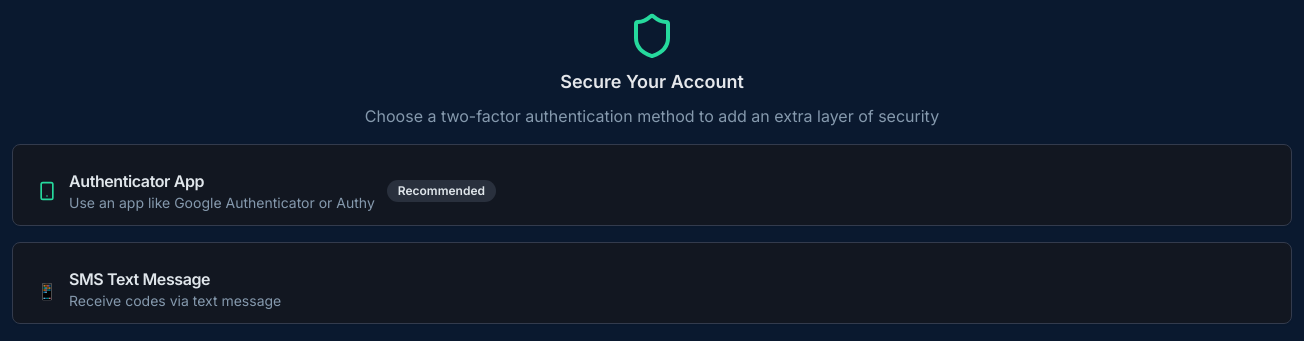
TwoFactorSetup › SMS Setup Flow › should create phone number and proceed to verification
Click the text "SMS Text Message". click: [140, 279]
box: [69,269,210,289]
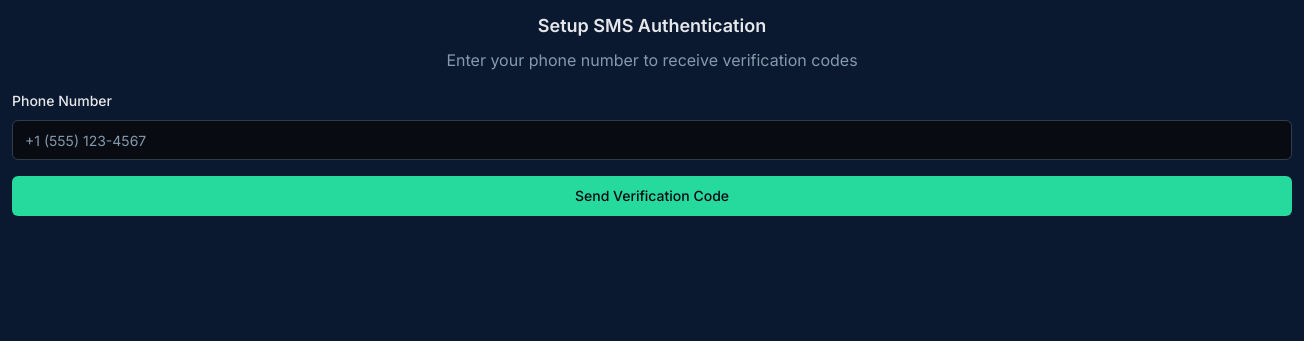
Type "+1234567890" into the field labelled "Phone Number". click: [652, 140]
box: [12,120,1292,160]
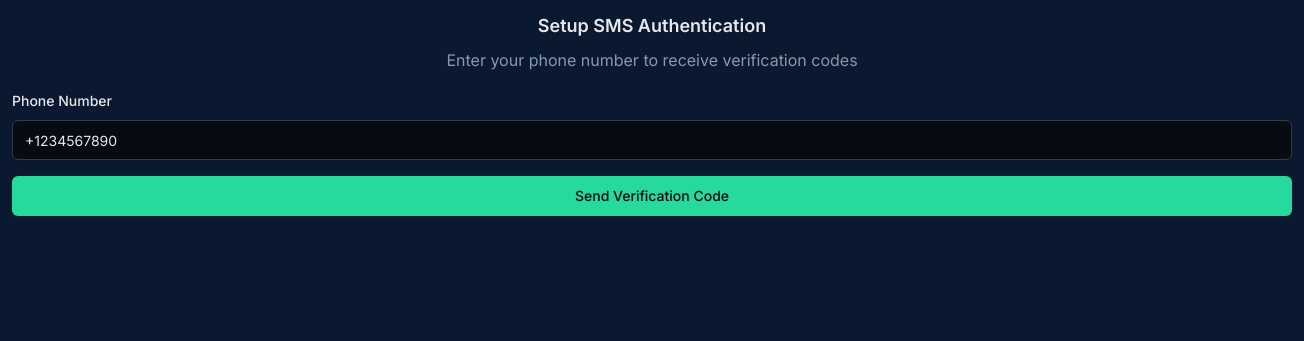
Click the button "Send Verification Code". click: [652, 196]
box: [12,176,1292,216]
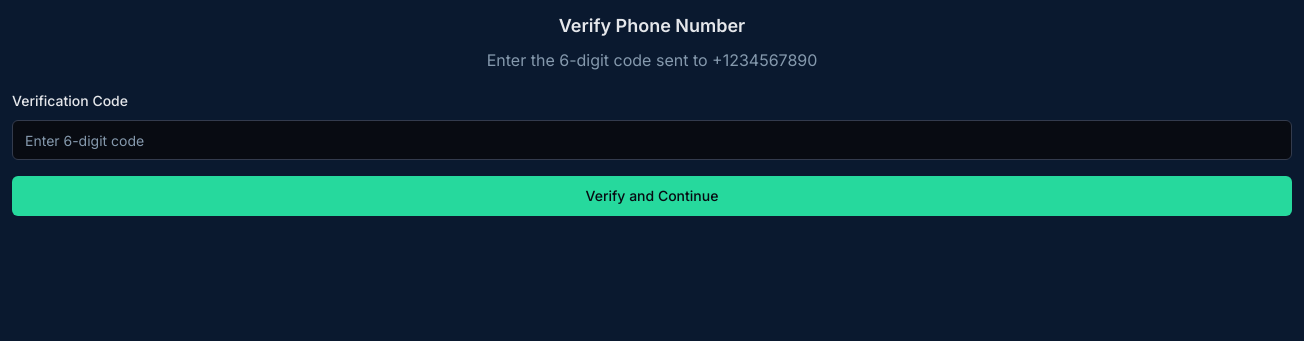
Now the heading "Verify Phone Number" is shown, box [559,15,745,36]
